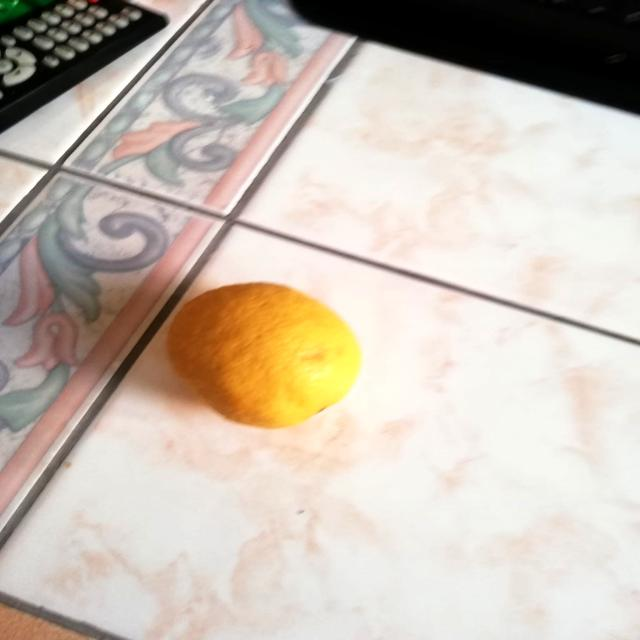lemon: (158, 276, 374, 429)
